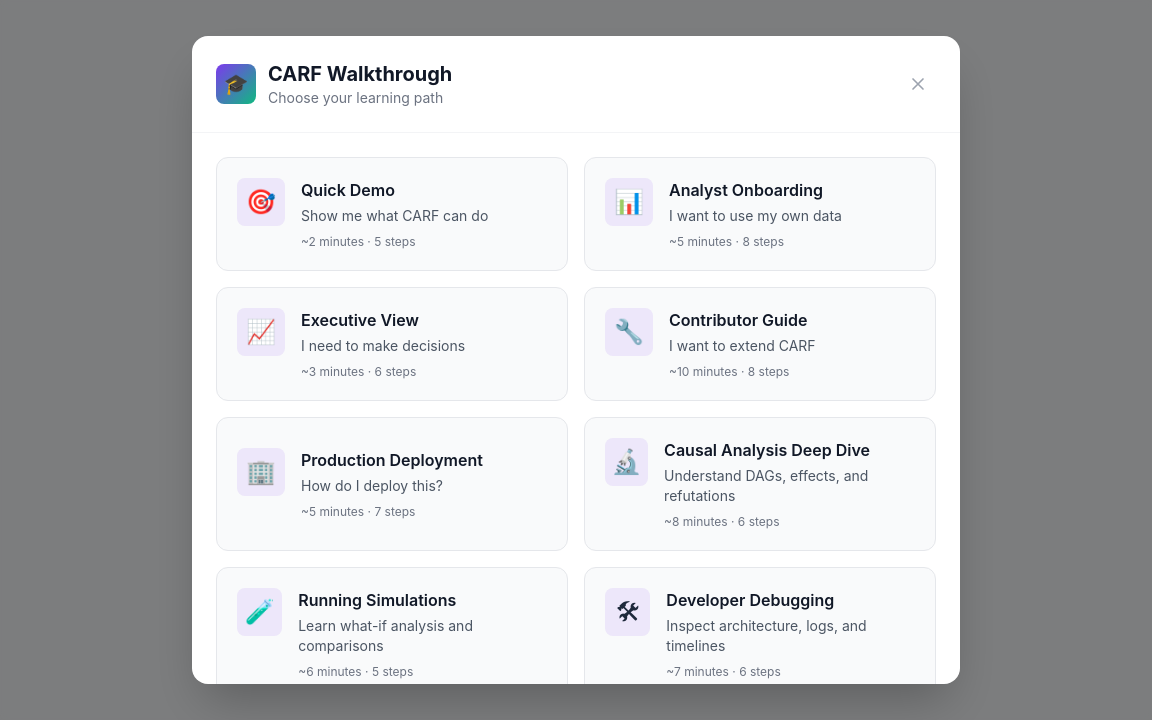
Scenario: WalkthroughManager › starts Running Simulations track and shows first step
Click the text "Running Simulations": (377, 600) [298,590,456,610]
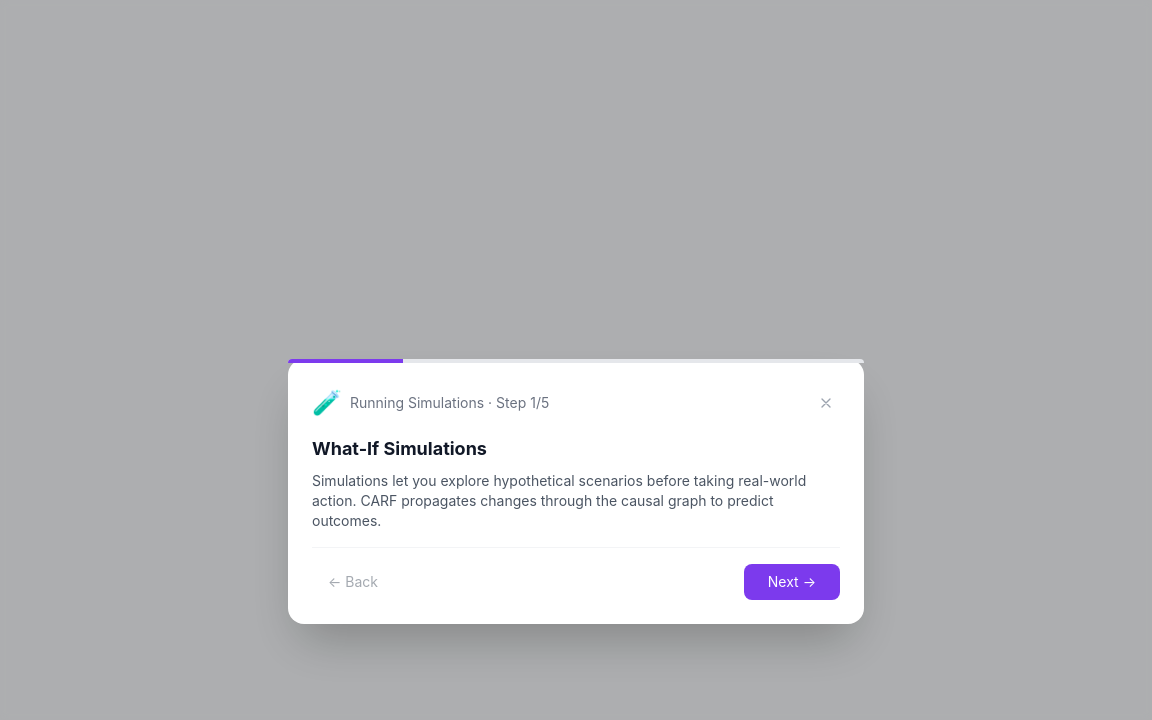
Expected: the heading "What-If Simulations" is shown, [312,438,487,459]
Expected: the text "Running Simulations · Step 1/5" is shown, [350,393,549,413]
